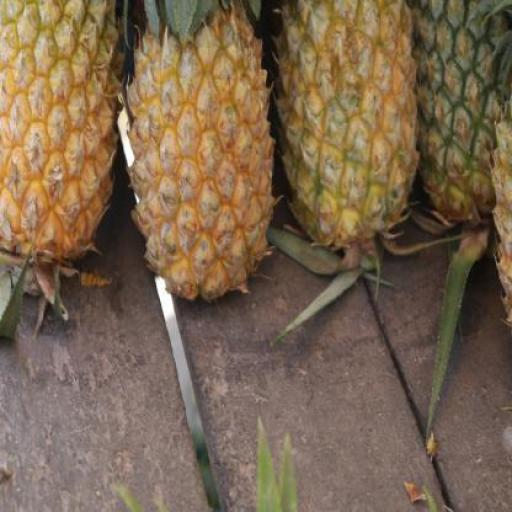------------------------------: (274, 0, 415, 236)
Pineapple - v8 v1: (128, 1, 277, 303), (0, 0, 127, 273)
